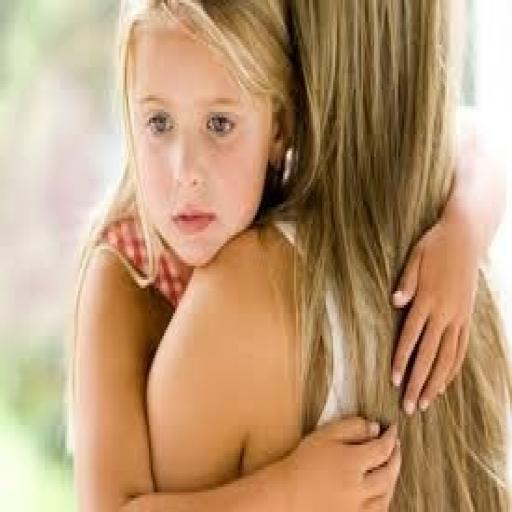hugging: (69, 0, 510, 509)
